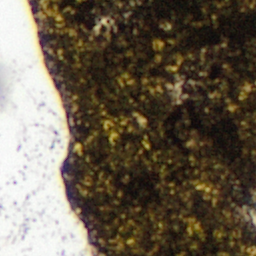cement_matrix: (31, 0, 255, 255)
gravel_crushed_stones: (0, 0, 97, 255), (250, 212, 255, 224)
